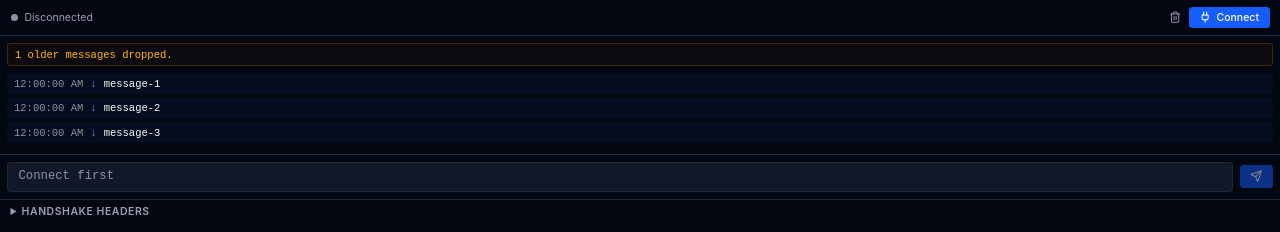
Test: message log caps › drops older WebSocket messages, shows an indicator, and clears the log
Expected: the text with test id "ws-messages-dropped" shows "1 older messages dropped", [7, 43, 1273, 66]
Expected: the text "message-3" is shown, [104, 126, 160, 138]
Click the button titled "Clear messages" at (1175,18), box [1166, 8, 1185, 27]
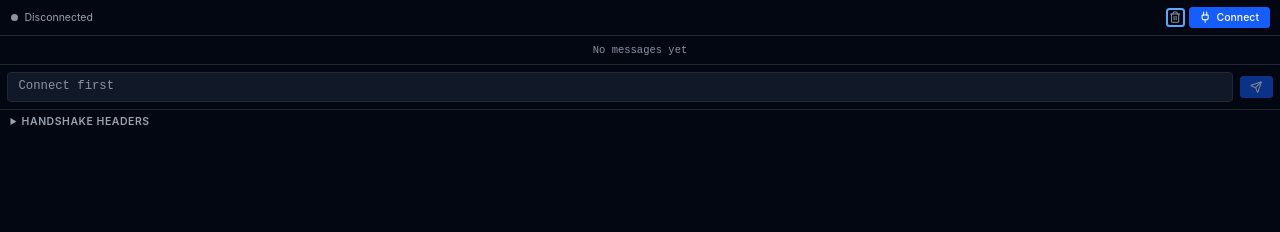
Result: the text with test id "ws-messages-dropped" is gone
Result: the text "No messages yet" is shown at [593, 44, 687, 56]
